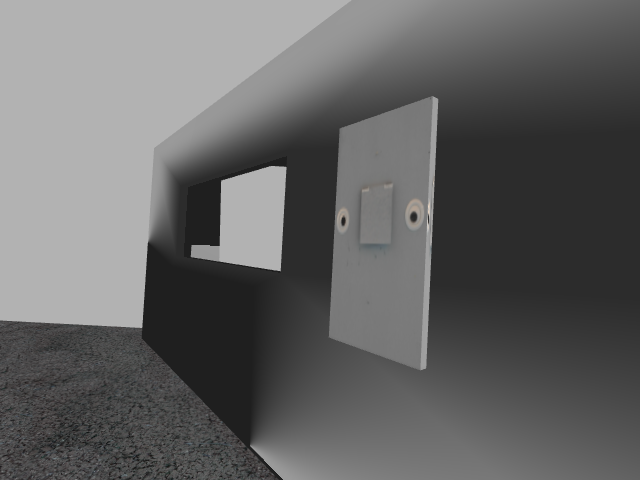facade: (334, 180, 425, 248)
